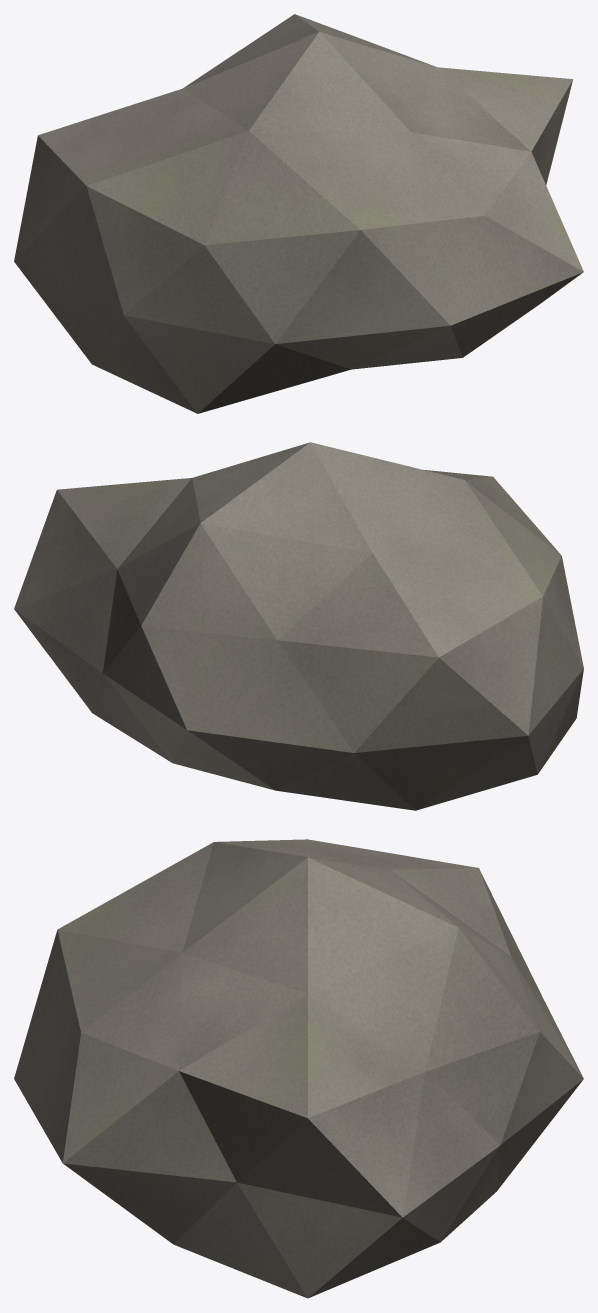
File: roccia_3.glb
The picture shows the model from 3 angles, top to bottom: view 1: azimuth 30°, elevation 25°; view 2: azimuth 150°, elevation 25°; view 3: azimuth 270°, elevation 25°; orthographic projection. The views are drawn at different scales.
Parts seen in each view (by area): view 1: roccia_3; view 2: roccia_3; view 3: roccia_3.
Boxes of the visible parts, <box> form: roccia_3: <box>14,14,583,413</box>; roccia_3: <box>14,442,583,810</box>; roccia_3: <box>14,839,583,1298</box>.
Size of the model in its own units: 0.9639 by 0.5032 by 0.824.
1 material, 1 textured.
